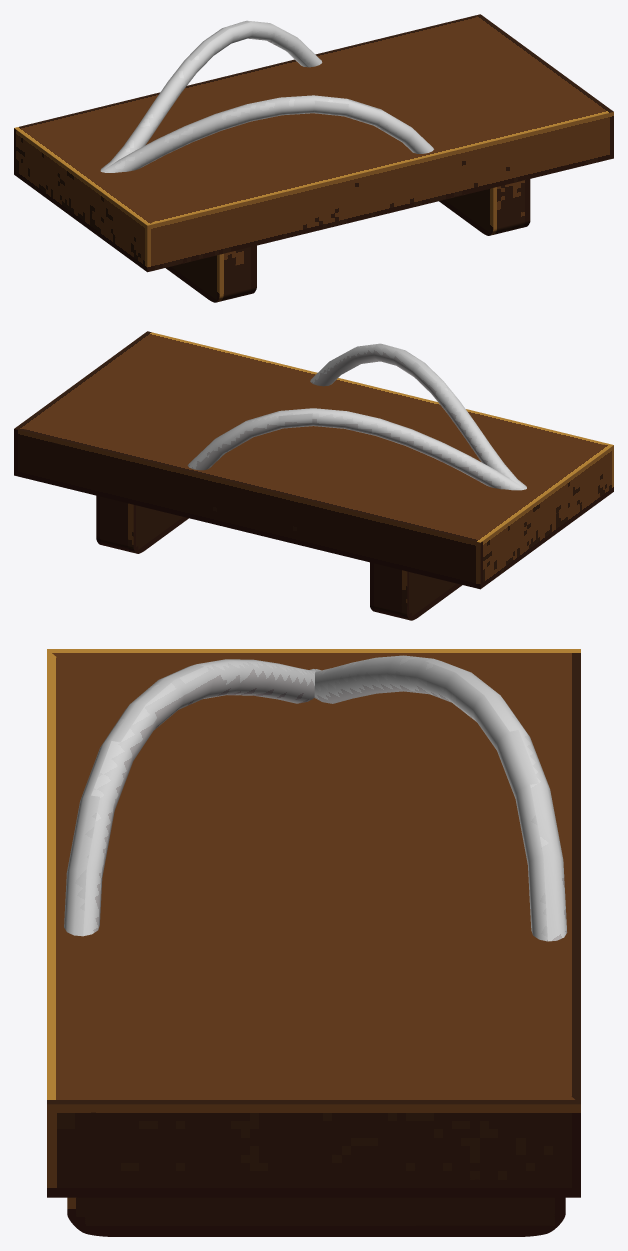
Rendered from geta.glb.
The picture shows the model from 3 angles, top to bottom: view 1: azimuth 30°, elevation 25°; view 2: azimuth 150°, elevation 25°; view 3: azimuth 270°, elevation 25°; orthographic projection. The views are drawn at different scales.
Visible parts, largest first — view 1: mesh; view 2: mesh; view 3: mesh.
Part boxes in pixels (x1,y1,x2,y2): mesh: [14, 14, 613, 302]; mesh: [14, 331, 613, 620]; mesh: [47, 649, 580, 1236].
Bounding box in the file's own units: 0.1952 × 0.07 × 0.0967.
Materials: 1 (1 with a texture image).
